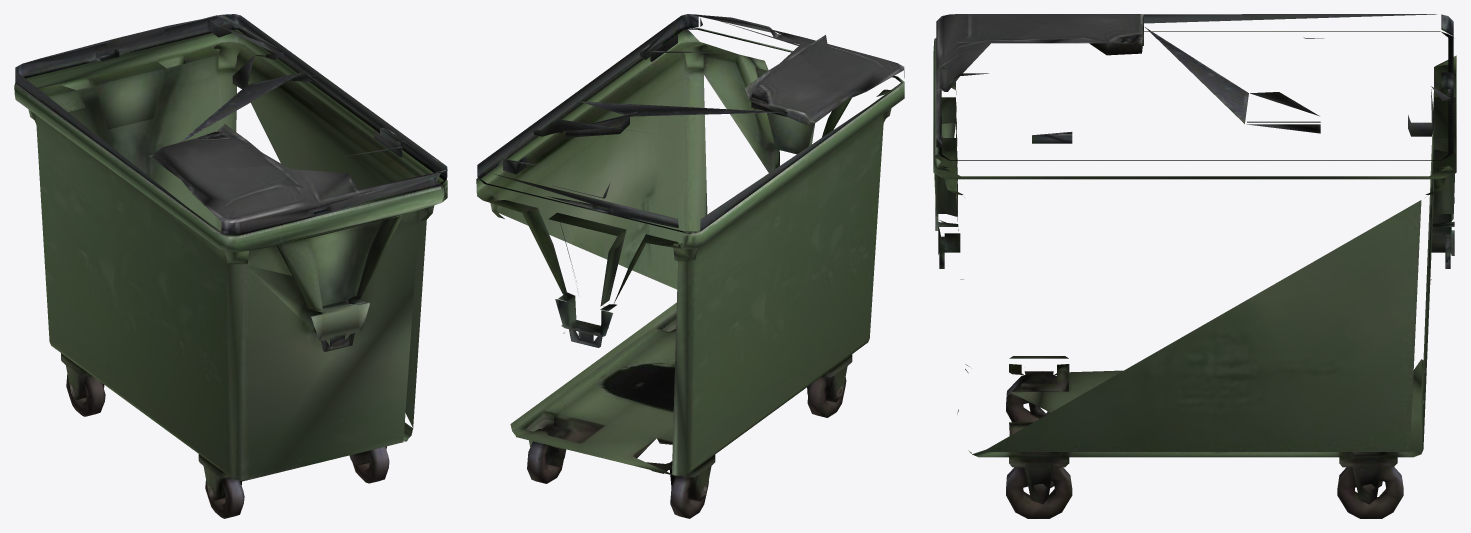
File: dumpster.glb
3 views of the same model, side by side, from view 1: azimuth 30°, elevation 25°; view 2: azimuth 150°, elevation 25°; view 3: azimuth 270°, elevation 25° (orthographic). The views are drawn at different scales.
Visible parts, largest first — view 1: tripo_node_fbda6560-7c80-432a-b0f6-4e6f33d500ba; view 2: tripo_node_fbda6560-7c80-432a-b0f6-4e6f33d500ba; view 3: tripo_node_fbda6560-7c80-432a-b0f6-4e6f33d500ba.
Boxes of the visible parts, box(x1,y1,x2,y2) form: tripo_node_fbda6560-7c80-432a-b0f6-4e6f33d500ba: box(14, 14, 447, 518); tripo_node_fbda6560-7c80-432a-b0f6-4e6f33d500ba: box(476, 14, 904, 518); tripo_node_fbda6560-7c80-432a-b0f6-4e6f33d500ba: box(933, 14, 1456, 518).
Bounding box in the file's own units: 0.9213 × 1.35 × 1.53.
1 material, 1 textured.
